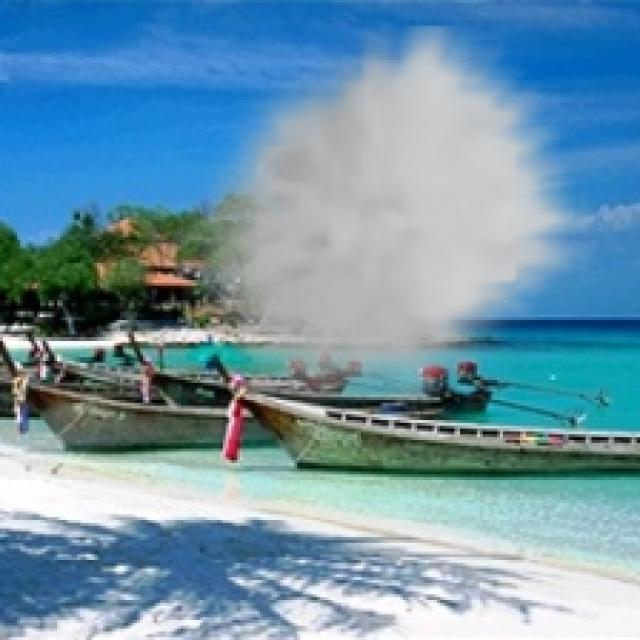Smoke: (180, 26, 594, 403)
